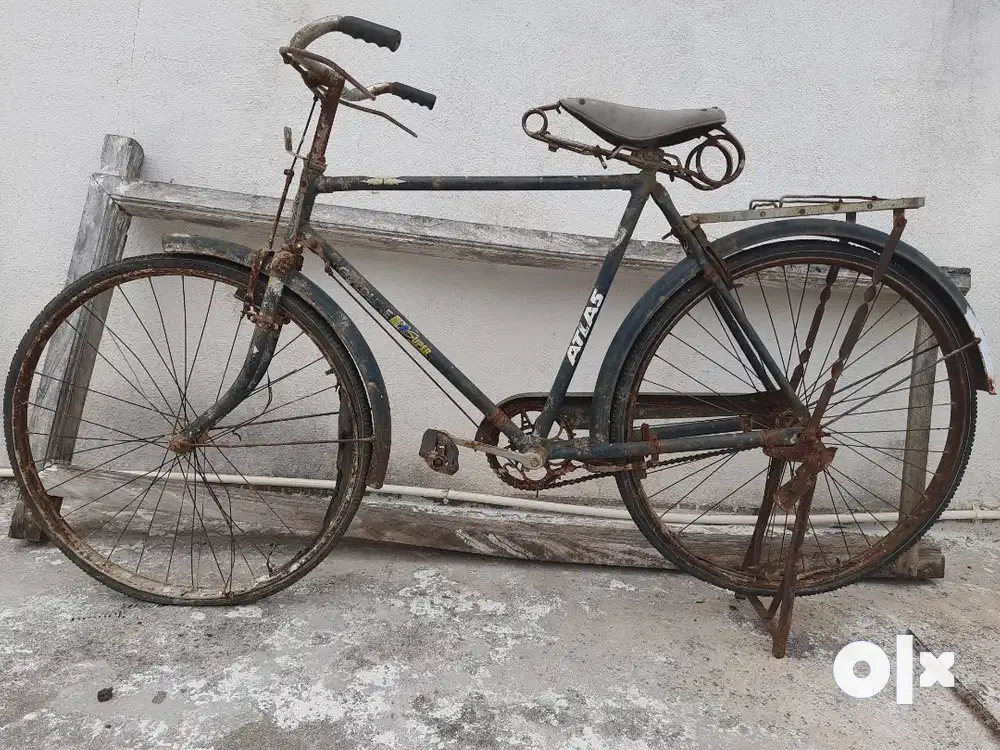cycle: (3, 10, 998, 650)
